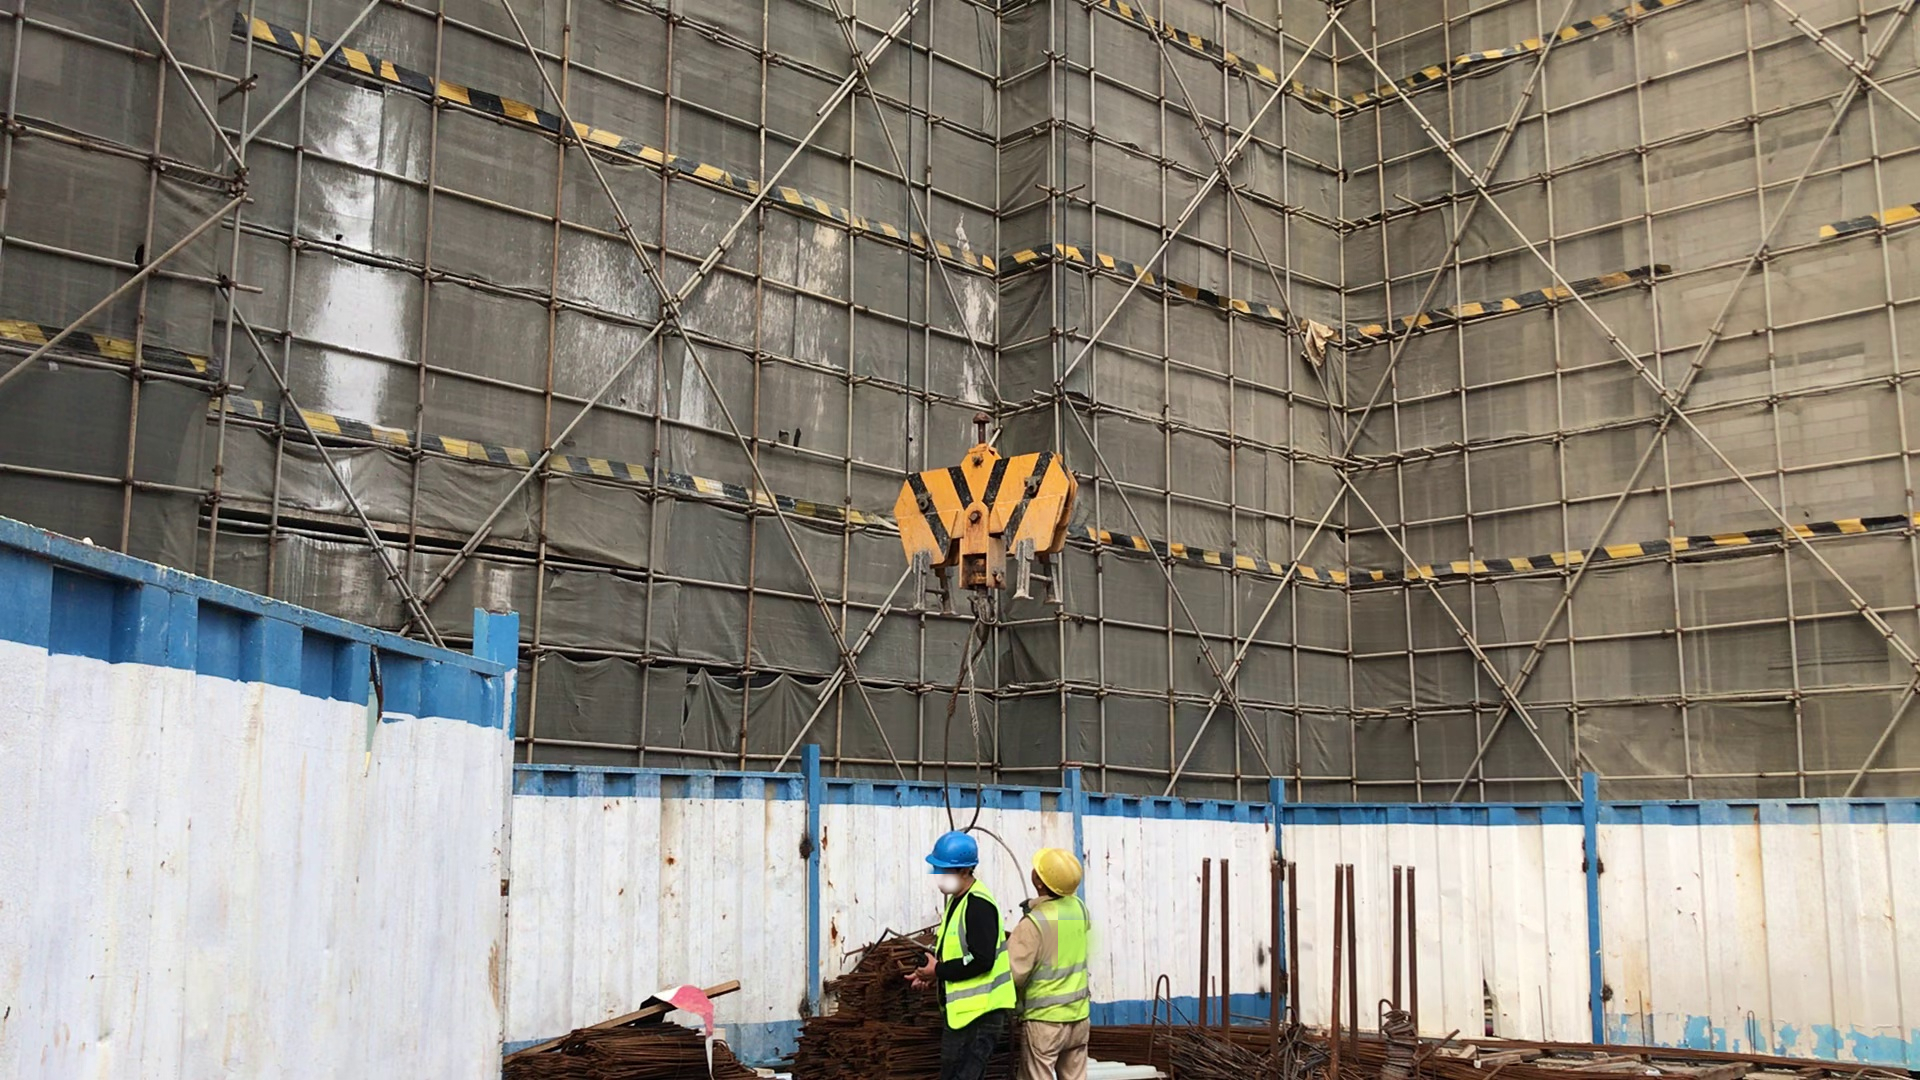helmet: (1030, 842, 1082, 897), (926, 833, 981, 867)
hook: (892, 412, 1078, 637)
person: (914, 837, 1018, 1080), (1003, 846, 1094, 1080)
rebar: (793, 933, 950, 1080), (517, 1030, 746, 1080)
vest: (935, 882, 1018, 1022), (1021, 898, 1089, 1025)
